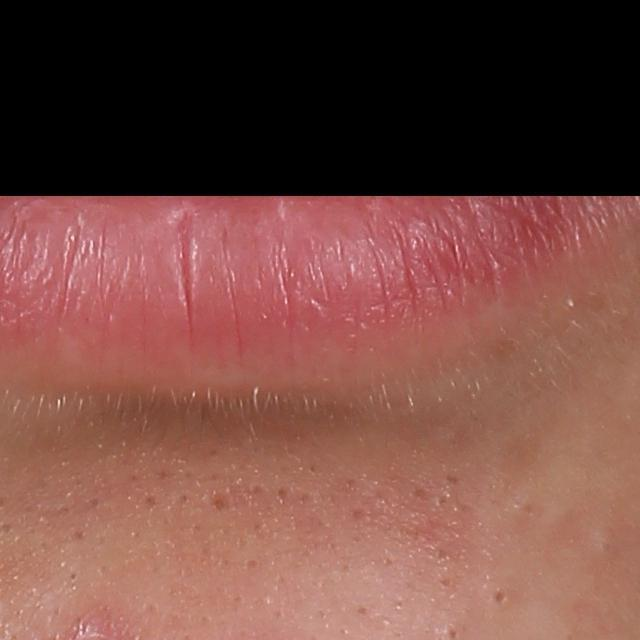comedo: (486, 583, 514, 616), (591, 530, 616, 563), (272, 484, 293, 505), (209, 488, 227, 512)
